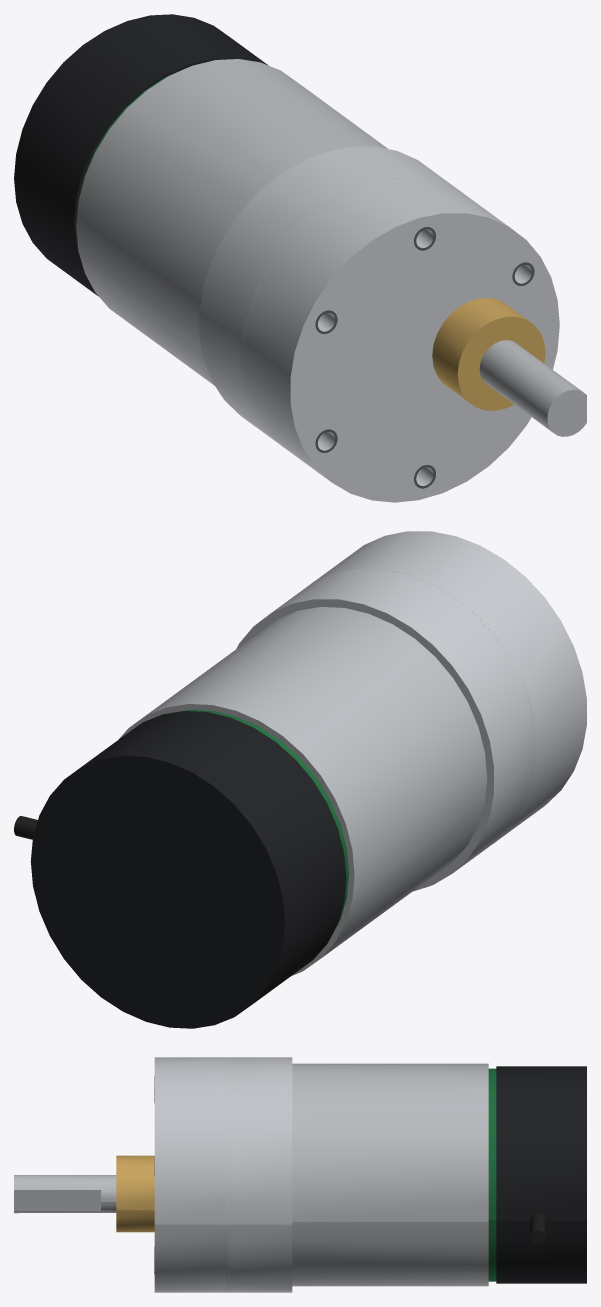
File: pololu-4752-30-1-37d-enc.glb
3 renders of one model, top to bottom at view 1: azimuth 30°, elevation 25°; view 2: azimuth 150°, elevation 25°; view 3: azimuth 270°, elevation 25°, orthographic. The views are drawn at different scales.
Parts seen in each view (by area): view 1: gearbox, body, encoder_cap, bushing, shaft; view 2: encoder_cap, body, gearbox, encoder_board; view 3: body, gearbox, encoder_cap, shaft, bushing, encoder_board, encoder_cable.
Part boxes in pixels (left/top/right/bottom): gearbox: left=199, top=146, right=559, bottom=502; body: left=76, top=59, right=387, bottom=385; encoder_cap: left=14, top=14, right=268, bottom=296; bushing: left=432, top=298, right=545, bottom=410; shaft: left=479, top=340, right=586, bottom=436; encoder_cap: left=30, top=711, right=346, bottom=1028; body: left=119, top=607, right=487, bottom=975; gearbox: left=236, top=531, right=586, bottom=891; encoder_board: left=170, top=710, right=348, bottom=922; body: left=292, top=1063, right=488, bottom=1286; gearbox: left=154, top=1057, right=292, bottom=1292; encoder_cap: left=496, top=1066, right=586, bottom=1283; shaft: left=14, top=1175, right=116, bottom=1213; bushing: left=116, top=1155, right=154, bottom=1232; encoder_board: left=488, top=1068, right=496, bottom=1281; encoder_cable: left=530, top=1213, right=545, bottom=1243.
Size of the model in its own units: 41.34 by 36.78 by 89.6.
